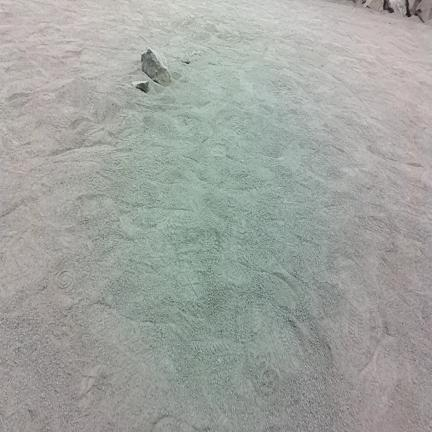Rock: (142, 48, 170, 85), (415, 0, 432, 22), (388, 0, 407, 15), (364, 0, 383, 11), (132, 81, 148, 92)
